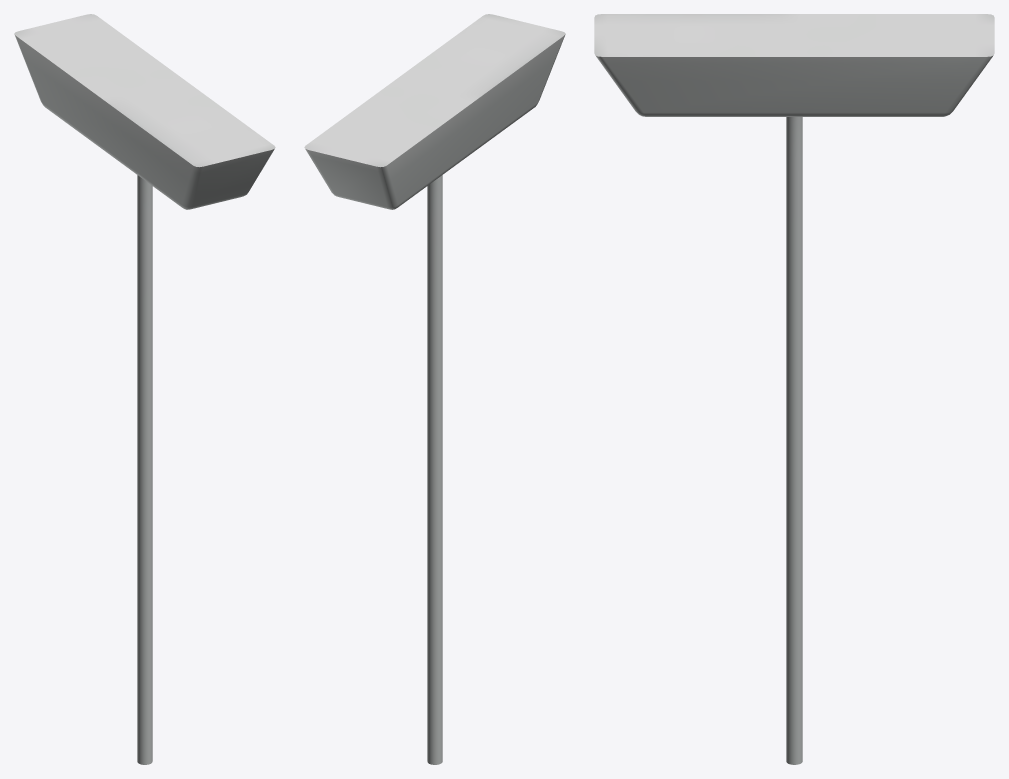
The model's file is bar_sign_5_a.glb.
3 renders of one model, left to right at view 1: azimuth 30°, elevation 25°; view 2: azimuth 150°, elevation 25°; view 3: azimuth 270°, elevation 25°, orthographic. The views are drawn at different scales.
Parts seen in each view (by area): view 1: bar_sign_5; view 2: bar_sign_5; view 3: bar_sign_5.
Boxes of the visible parts, left/top/right/bottom form: bar_sign_5: left=14, top=14, right=275, bottom=764; bar_sign_5: left=304, top=14, right=565, bottom=764; bar_sign_5: left=594, top=14, right=994, bottom=764.
Size of the model in its own units: 0.0921 by 0.726 by 0.3627.
1 material, 1 textured.
